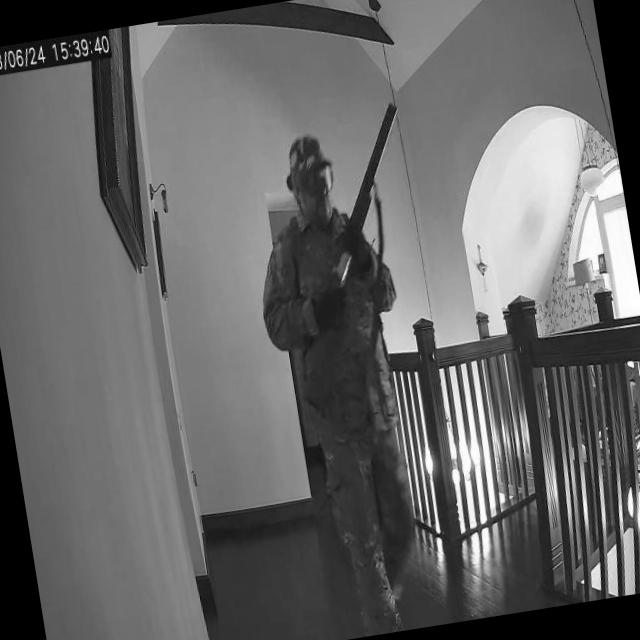gun: (260, 94, 448, 419)
person with a gun: (232, 92, 482, 640)
